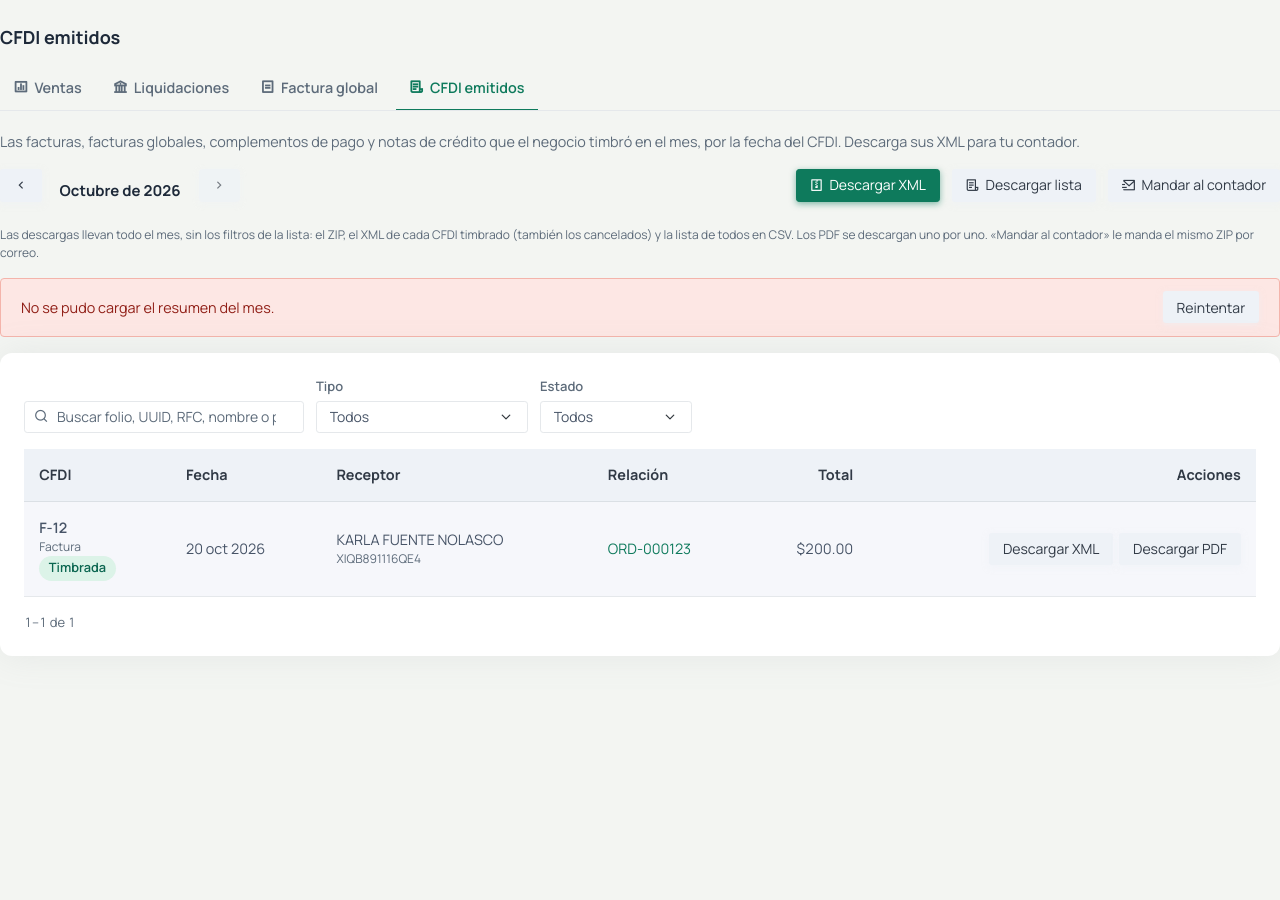
Scenario: IssuedCfdis › says why the summary did not load, and tries again
Expected: the text "No se pudo cargar el resumen del mes." is shown, [21,296,274,318]
Step 1. Click the button "Reintentar" → (1211, 307), box [1163,291,1259,323]
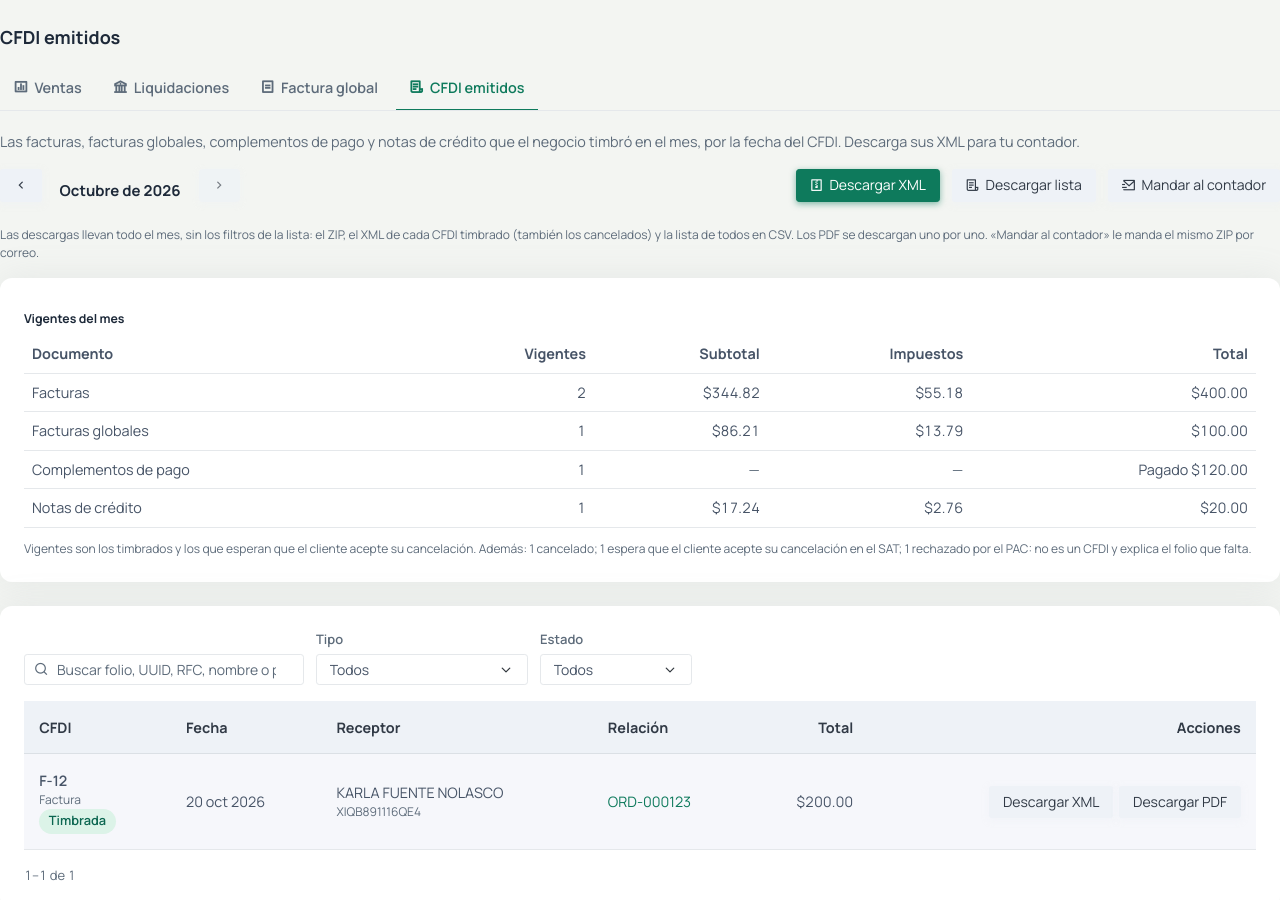
Expected: the element named "Resumen de octubre de 2026" is shown, [0,278,1279,582]
